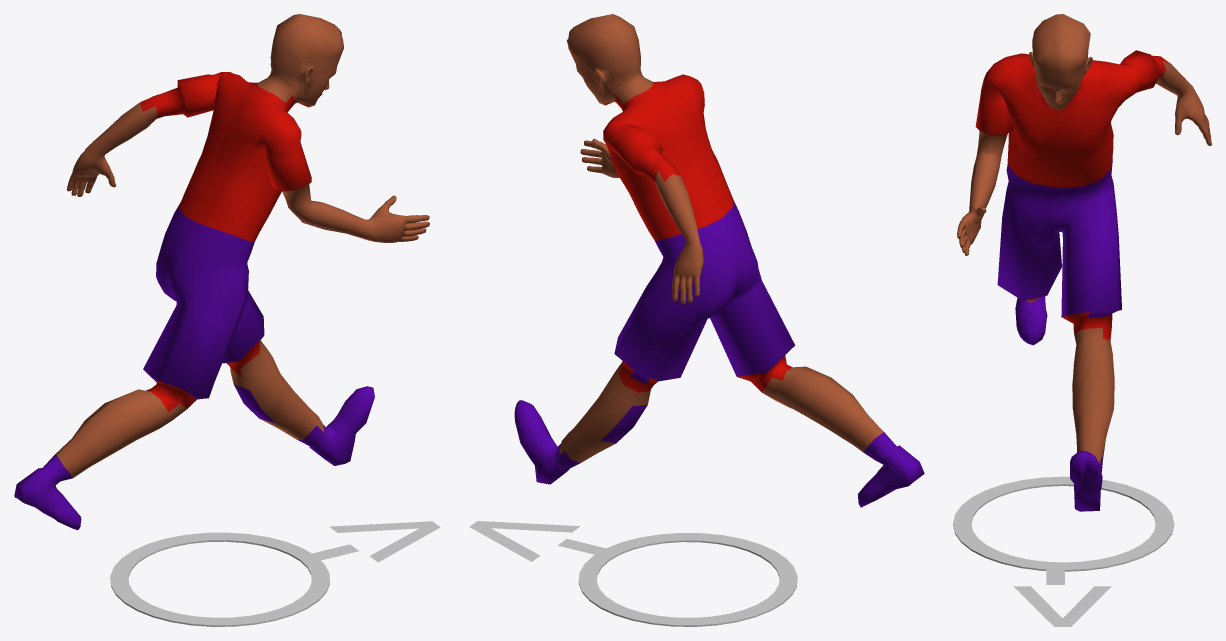
Rendered from player_000007.obj.
The picture shows the model from 3 angles, left to right: view 1: azimuth 30°, elevation 25°; view 2: azimuth 150°, elevation 25°; view 3: azimuth 270°, elevation 25°; orthographic projection.
Visible parts, largest first — view 1: soccerplayer.002_mesh.003, Circle, Text.001_Mesh.001; view 2: soccerplayer.002_mesh.003, Circle, Text.001_Mesh.001; view 3: soccerplayer.002_mesh.003, Circle, Text.001_Mesh.001.
Boxes of the visible parts, bbox=[...] form: soccerplayer.002_mesh.003: bbox=[14, 14, 429, 529]; Circle: bbox=[110, 532, 329, 626]; Text.001_Mesh.001: bbox=[308, 521, 440, 562]; soccerplayer.002_mesh.003: bbox=[514, 14, 924, 507]; Circle: bbox=[578, 533, 797, 626]; Text.001_Mesh.001: bbox=[470, 521, 608, 561]; soccerplayer.002_mesh.003: bbox=[957, 14, 1211, 511]; Circle: bbox=[953, 476, 1174, 571]; Text.001_Mesh.001: bbox=[1013, 564, 1111, 626].
Size of the model in its own units: 2.47 by 2.98 by 1.27.
